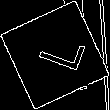L_W: (26, 32, 84, 78)
